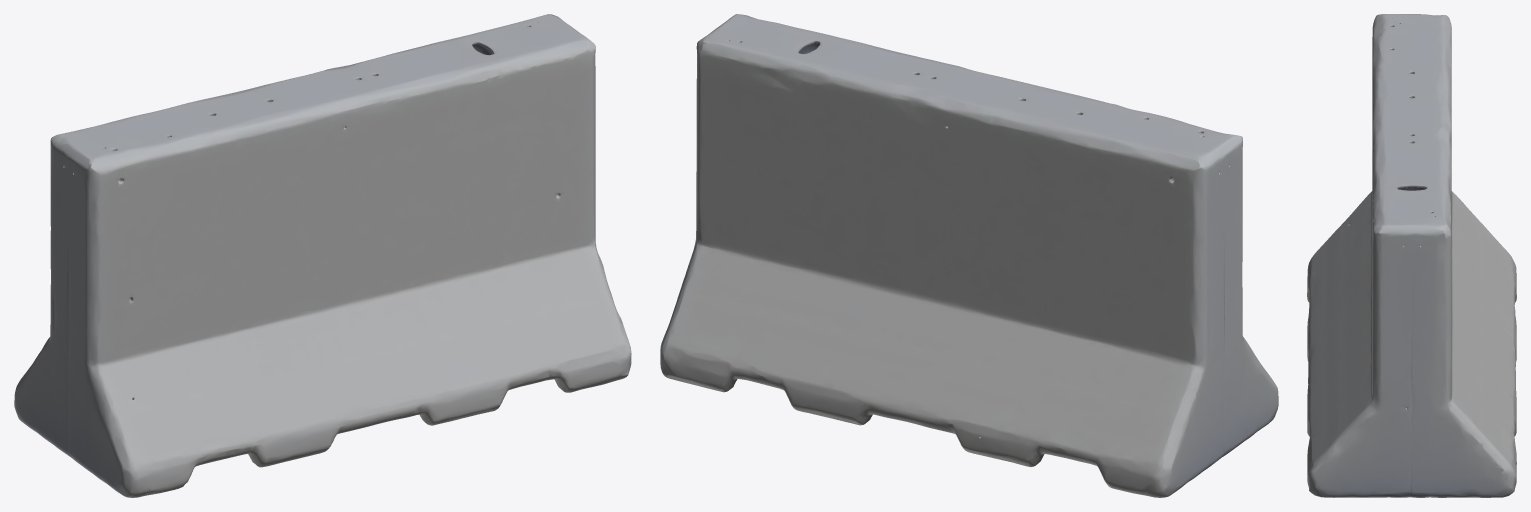
File: barrier-concrete.glb
The picture shows the model from 3 angles, left to right: view 1: azimuth 30°, elevation 25°; view 2: azimuth 150°, elevation 25°; view 3: azimuth 270°, elevation 25°; orthographic projection. The views are drawn at different scales.
Visible parts, largest first — view 1: tripo_node_7270e2ab-458c-4d03-9b82-acc72ce7870d; view 2: tripo_node_7270e2ab-458c-4d03-9b82-acc72ce7870d; view 3: tripo_node_7270e2ab-458c-4d03-9b82-acc72ce7870d.
Part boxes in pixels (bbox=[...]): tripo_node_7270e2ab-458c-4d03-9b82-acc72ce7870d: bbox=[14, 14, 631, 497]; tripo_node_7270e2ab-458c-4d03-9b82-acc72ce7870d: bbox=[660, 14, 1278, 497]; tripo_node_7270e2ab-458c-4d03-9b82-acc72ce7870d: bbox=[1307, 14, 1516, 497].
Size of the model in its own units: 1.54 by 0.9 by 0.6272.
Materials: 1 (1 with a texture image).
